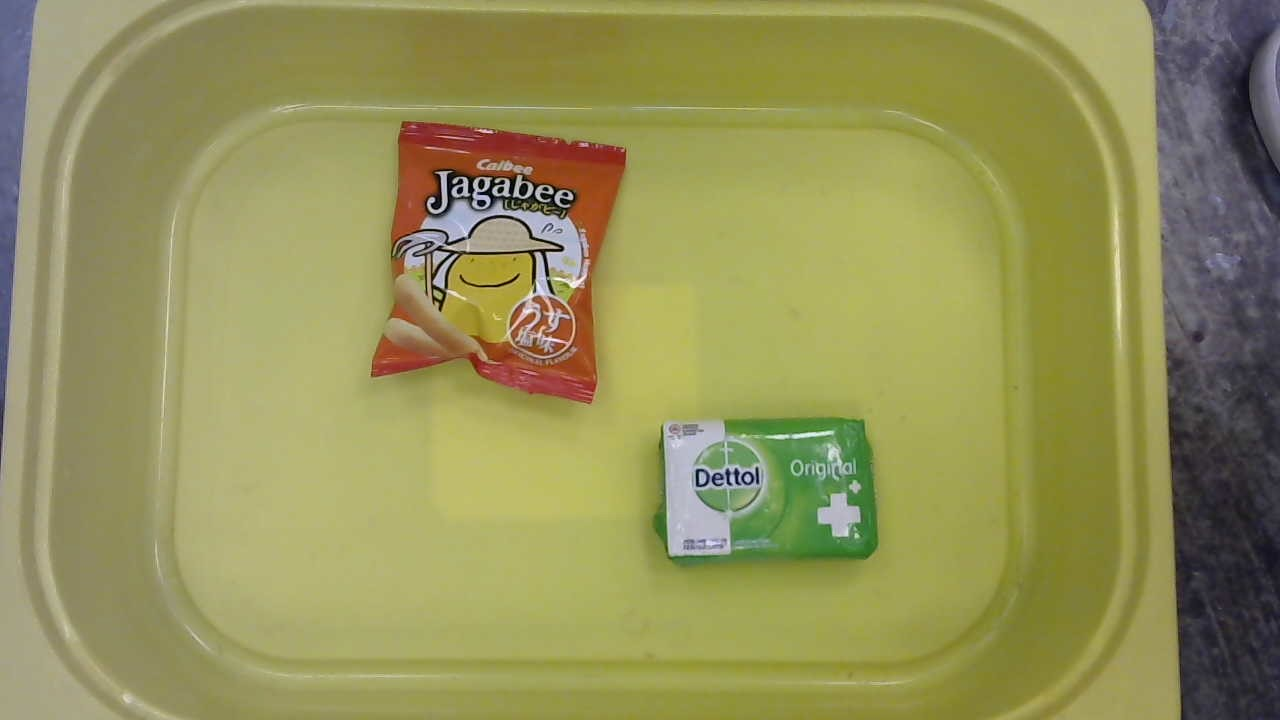Dettol: (648, 410, 883, 571)
JagabeeFarmer: (369, 117, 630, 416)
